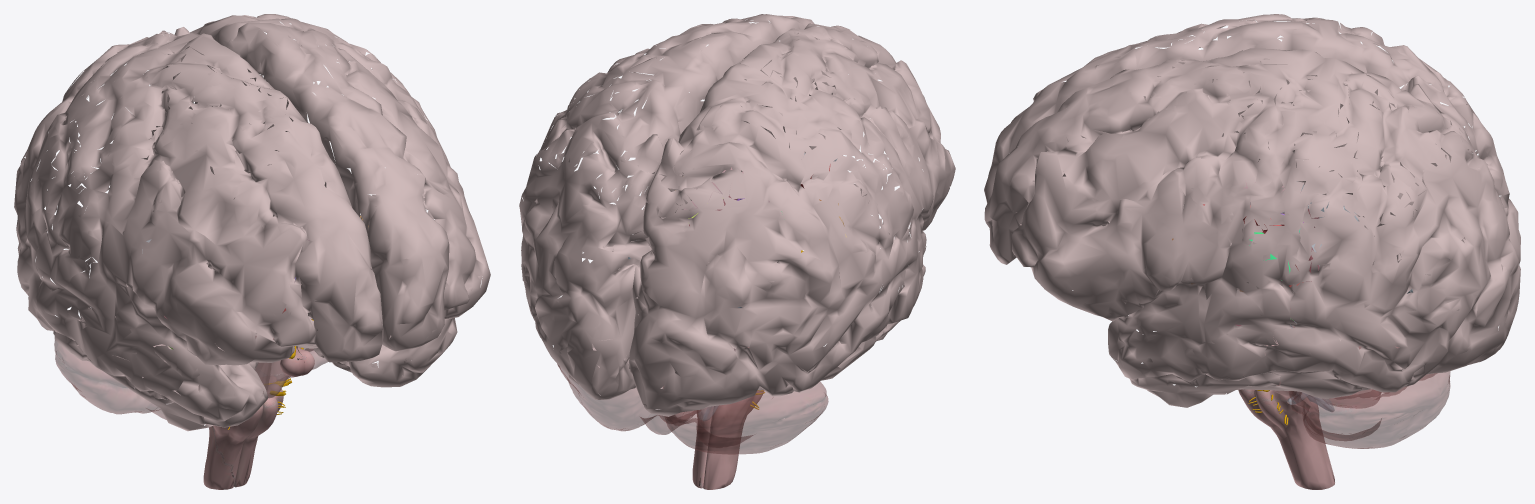
File: limbic-system-reduced.glb
3 renders of one model, left to right at view 1: azimuth 30°, elevation 25°; view 2: azimuth 150°, elevation 25°; view 3: azimuth 270°, elevation 25°, orthographic. The views are drawn at different scales.
Parts seen in each view (by area): view 1: mesh17, mesh41, mesh18, mesh19, mesh16, mesh42, mesh60, mesh43, mesh61, mesh20; view 2: mesh18, mesh17, mesh42, mesh41, mesh16, mesh19, mesh43, mesh60, mesh46, mesh61; view 3: mesh41, mesh42, mesh17, mesh46, mesh43, mesh18, mesh61, mesh19, mesh16.
Boxes of the visible parts, bbox=[...] form: mesh17: bbox=[29, 30, 383, 431]; mesh41: bbox=[174, 15, 490, 387]; mesh18: bbox=[14, 31, 372, 404]; mesh19: bbox=[20, 36, 266, 404]; mesh16: bbox=[54, 316, 179, 419]; mesh42: bbox=[141, 21, 482, 376]; mesh60: bbox=[203, 404, 263, 489]; mesh43: bbox=[152, 14, 450, 351]; mesh61: bbox=[234, 376, 283, 487]; mesh20: bbox=[256, 338, 288, 398]; mesh18: bbox=[628, 24, 952, 416]; mesh17: bbox=[646, 23, 955, 342]; mesh42: bbox=[519, 16, 832, 399]; mesh41: bbox=[535, 14, 854, 202]; mesh16: bbox=[662, 347, 828, 454]; mesh19: bbox=[632, 35, 926, 412]; mesh43: bbox=[520, 18, 770, 396]; mesh60: bbox=[703, 390, 764, 489]; mesh46: bbox=[557, 339, 700, 434]; mesh61: bbox=[692, 406, 713, 488]; mesh41: bbox=[984, 49, 1472, 407]; mesh42: bbox=[989, 67, 1520, 398]; mesh17: bbox=[984, 14, 1473, 222]; mesh46: bbox=[1288, 346, 1450, 448]; mesh43: bbox=[1149, 48, 1519, 398]; mesh18: bbox=[1009, 18, 1520, 293]; mesh61: bbox=[1238, 382, 1334, 489]; mesh19: bbox=[1155, 14, 1519, 310]; mesh16: bbox=[1292, 291, 1436, 408].
Size of the model in its own units: 2.56 by 3 by 3.28.
Materials: 47 (38 with a texture image).
